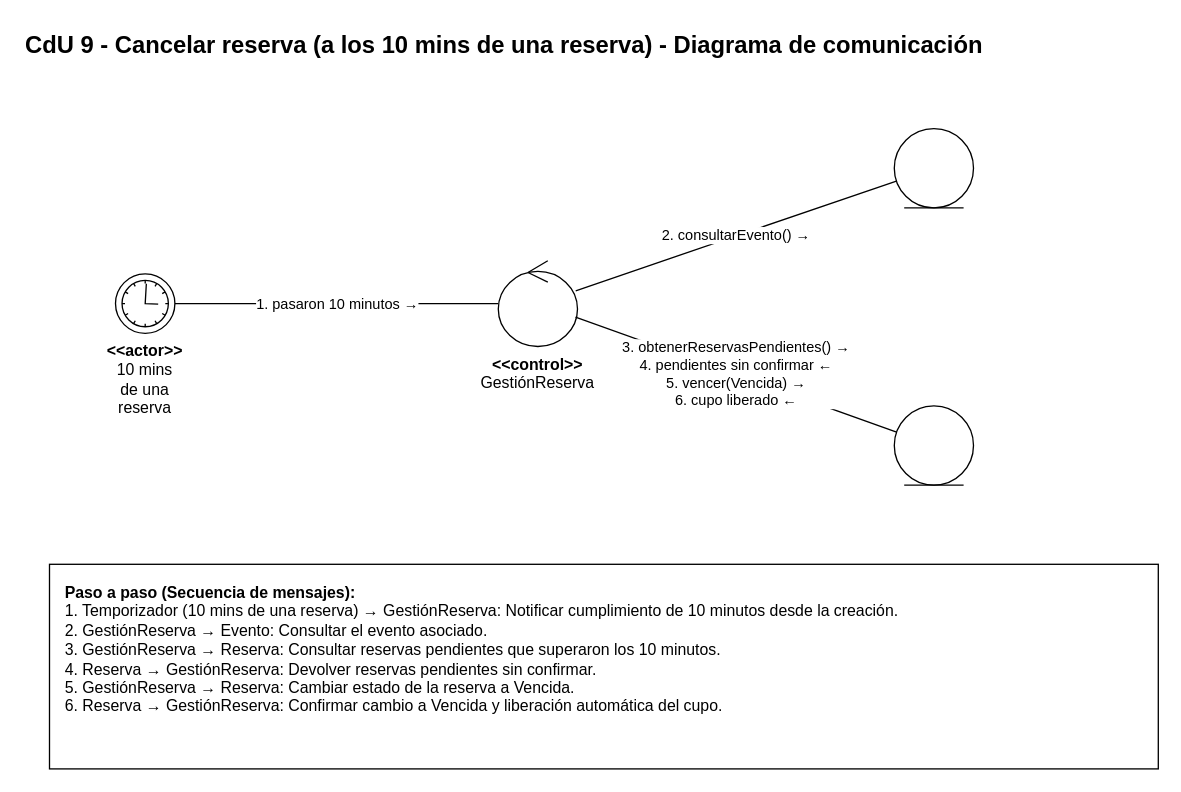
The diagram is 1181 pixels wide and 792 high, and some of its shapes have lost their labels. Here are the shapes that lost their labels. From the top down, the box of each, then its label:
(893, 127, 974, 208): <<entidad>> Evento
(893, 405, 974, 485): <<entidad>> Reserva
